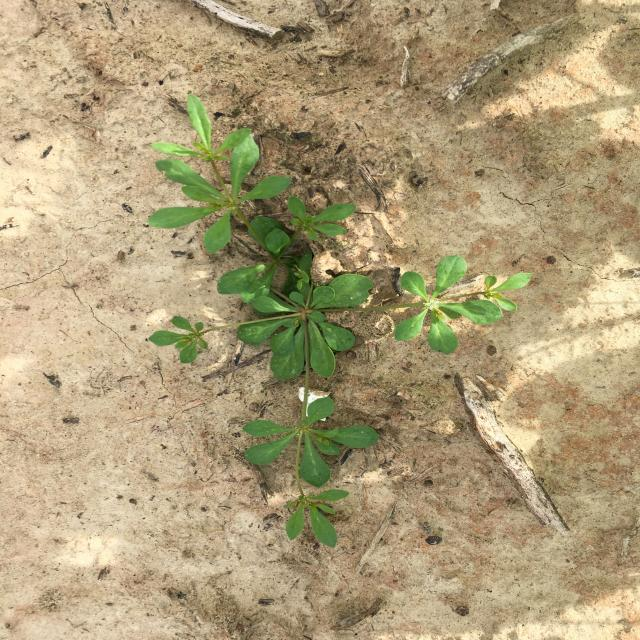Carpetweed: (147, 93, 533, 548)
